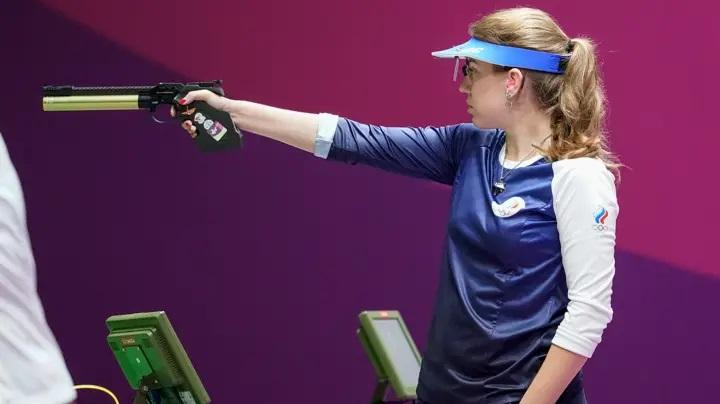criminal: (40, 6, 630, 404)
weapon: (40, 77, 244, 153)
